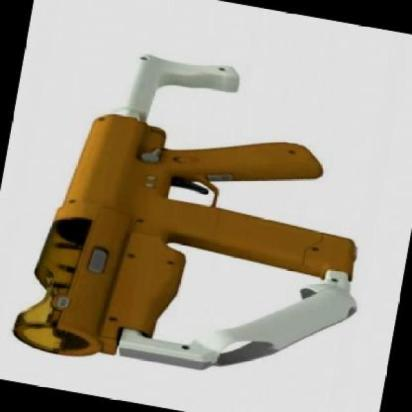Gun: (0, 18, 377, 408)
